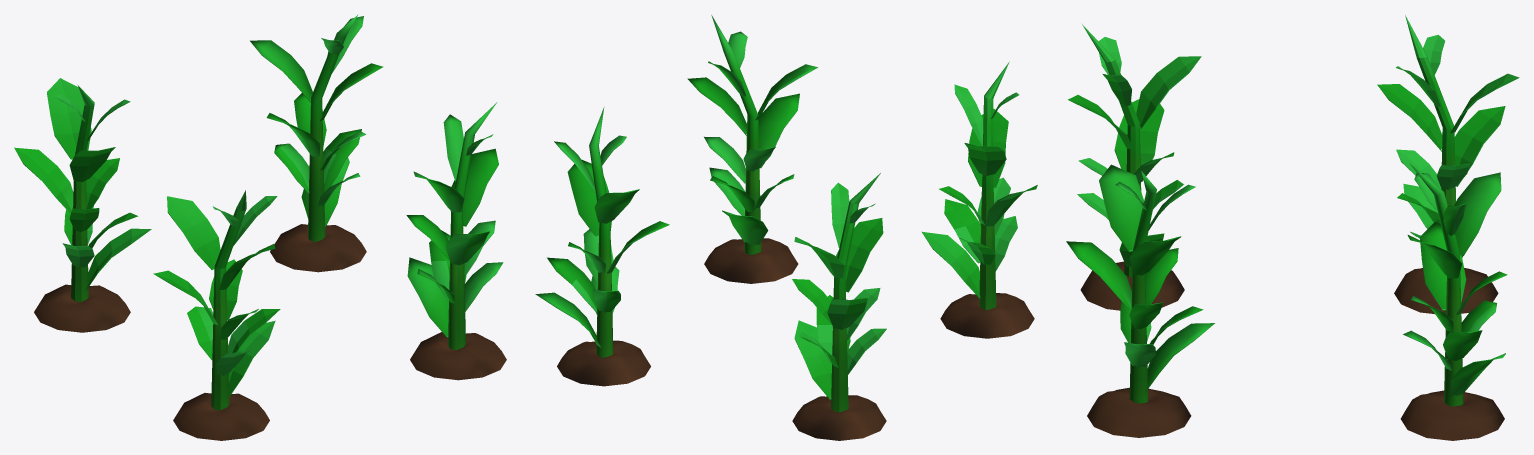
The model's file is Corn2.fbx.
The picture shows the model from 3 angles, left to right: view 1: azimuth 30°, elevation 25°; view 2: azimuth 150°, elevation 25°; view 3: azimuth 270°, elevation 25°; orthographic projection. The views are drawn at different scales.
Parts seen in each view (by area): view 1: 2; view 2: 2; view 3: 2.
Part boxes in pixels (x1,y1,x2,y2): 2: (14,14,506,440); 2: (535,15,1037,440); 2: (1066,15,1519,440).
Bounding box in the file's own units: 135 × 89.64 × 138.
